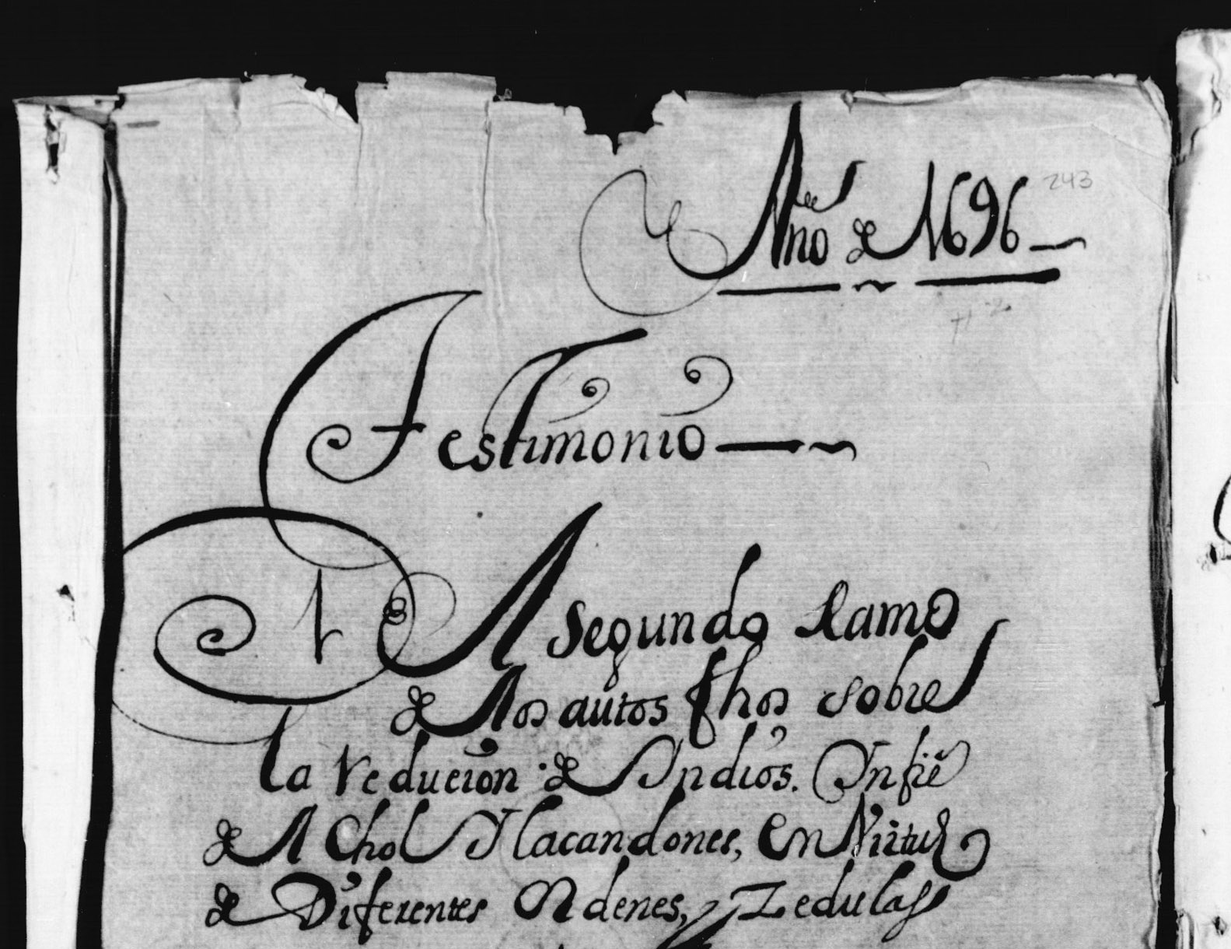lacandon: (512, 785, 741, 860)
